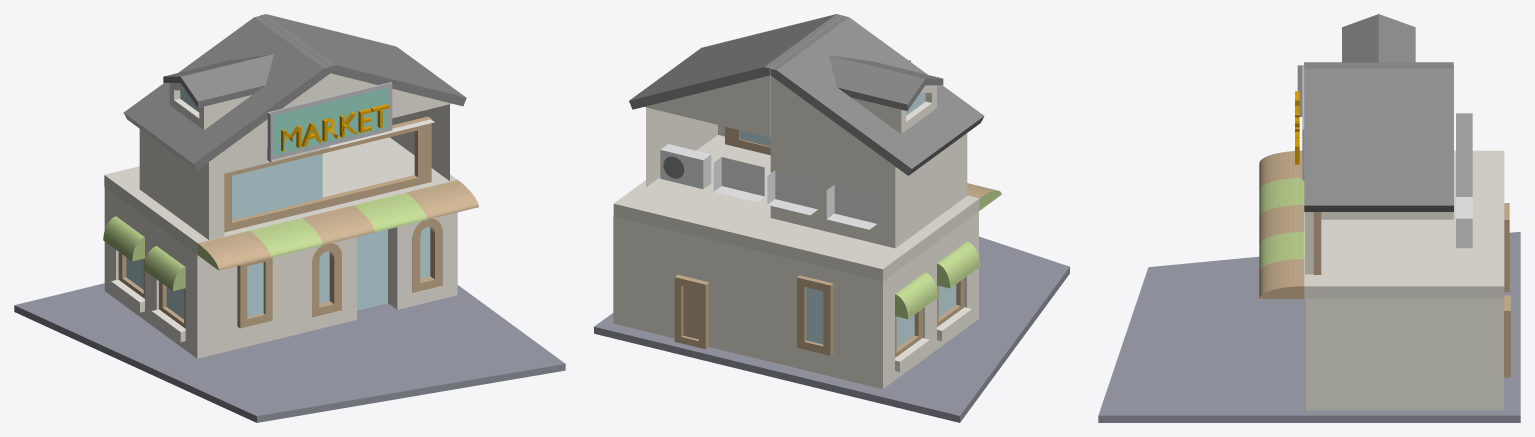
The model's file is market.glb.
3 views of the same model, side by side, from view 1: azimuth 30°, elevation 25°; view 2: azimuth 150°, elevation 25°; view 3: azimuth 270°, elevation 25° (orthographic). The views are drawn at different scales.
Visible parts, largest first — view 1: Mesh1 Group1 Model.014; view 2: Mesh1 Group1 Model.014; view 3: Mesh1 Group1 Model.014.
Boxes of the visible parts, x1,y1,x2,y2 form: Mesh1 Group1 Model.014: (14,14,565,422); Mesh1 Group1 Model.014: (594,14,1069,422); Mesh1 Group1 Model.014: (1098,14,1520,422).
Bounding box in the file's own units: 6.6 × 4.76 × 6.4.
